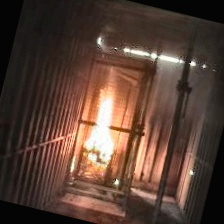fire: (72, 80, 132, 176)
